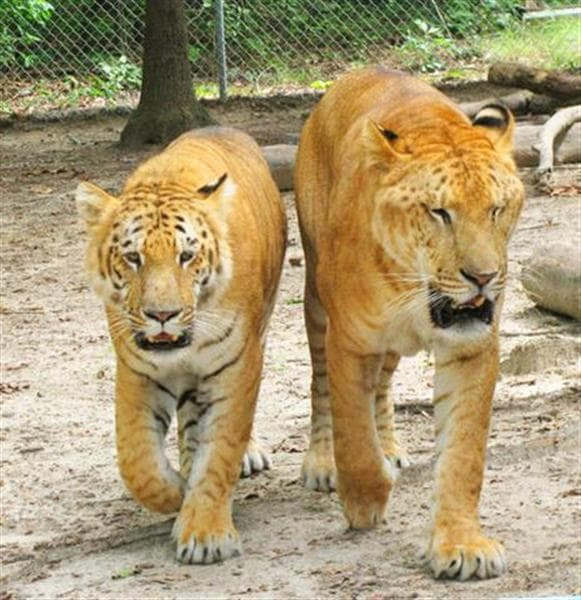Tiger: (68, 63, 284, 568)
